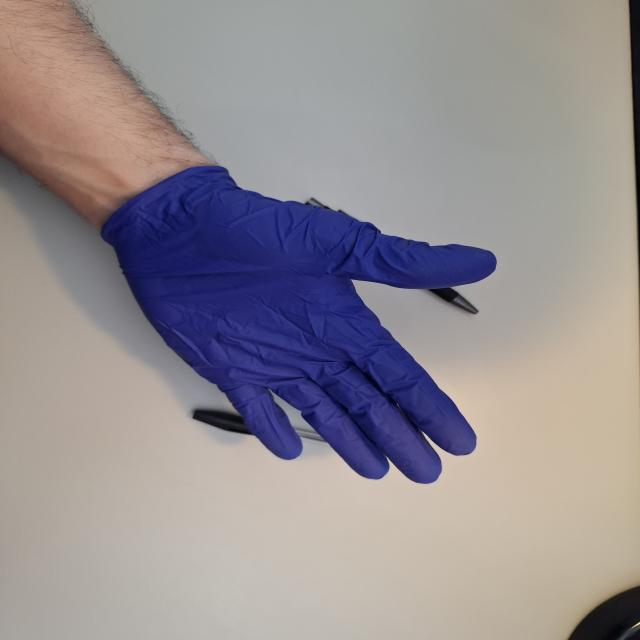glove_on: (96, 161, 502, 487)
